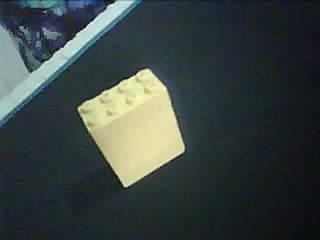lego: (75, 66, 187, 188)
